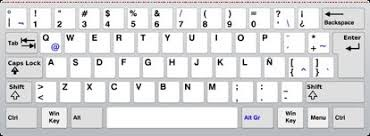keyboard: (0, 0, 370, 136)
